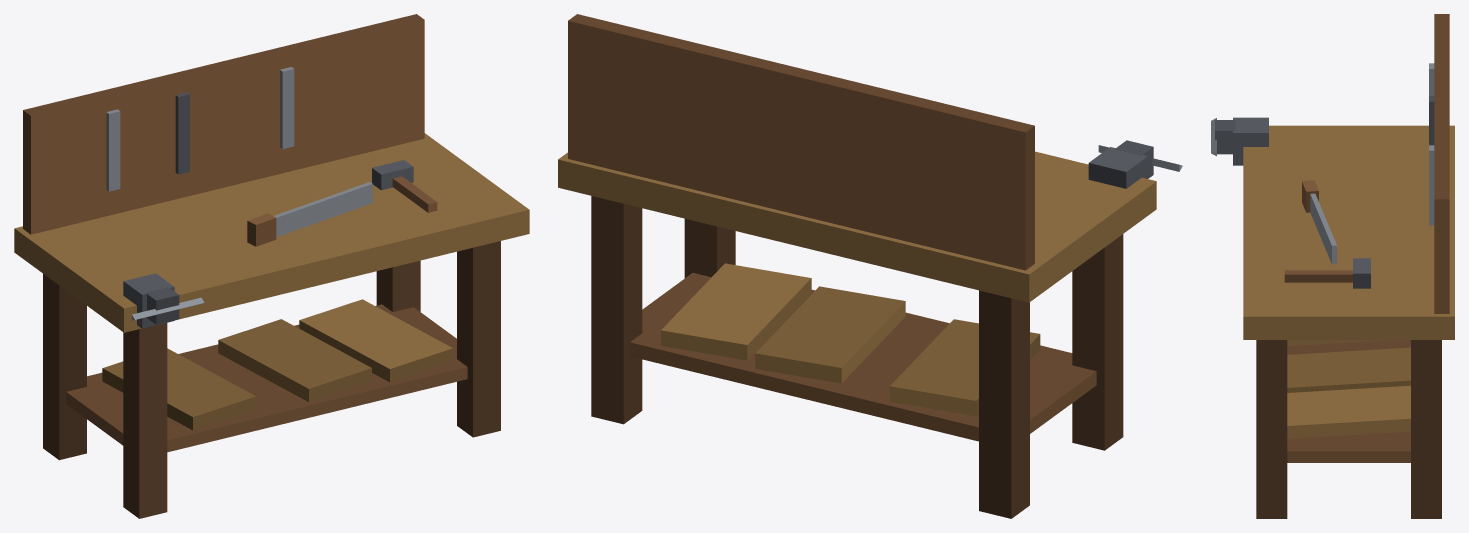
Rendered from workbench.glb.
3 views of the same model, side by side, from view 1: azimuth 30°, elevation 25°; view 2: azimuth 150°, elevation 25°; view 3: azimuth 270°, elevation 25° (orthographic). The views are drawn at different scales.
Visible parts, largest first — view 1: workbench; view 2: workbench; view 3: workbench.
Part boxes in pixels (x1=…): workbench: x1=14, y1=14, x2=529, y2=518; workbench: x1=558, y1=14, x2=1182, y2=518; workbench: x1=1211, y1=14, x2=1454, y2=518.
Size of the model in its own units: 1.77 by 1.4 by 0.945.
